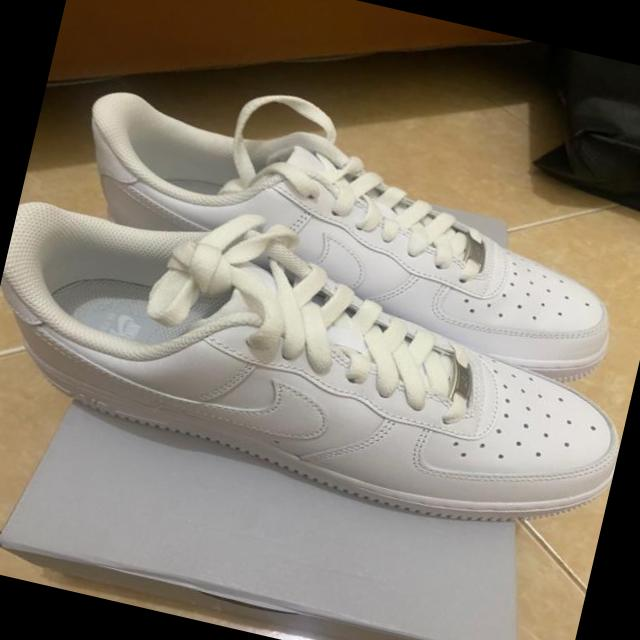nike_original_airforce: (0, 181, 640, 559), (47, 74, 640, 396)
